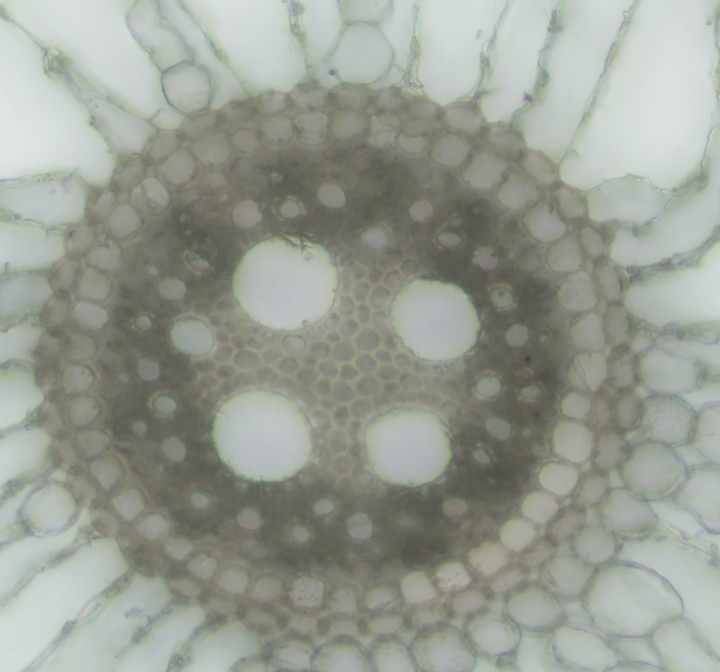lm: (232, 236, 338, 331), (210, 387, 312, 481), (389, 276, 480, 359), (363, 406, 453, 485)
